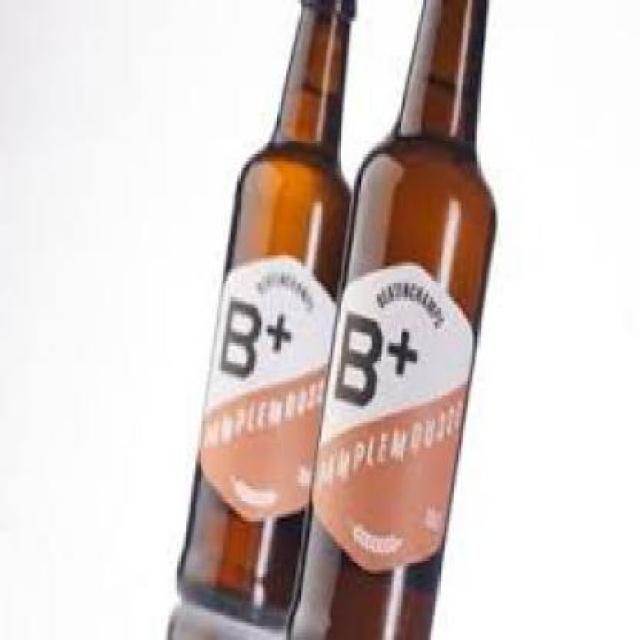GLASS: (282, 0, 496, 637), (172, 0, 351, 637)
